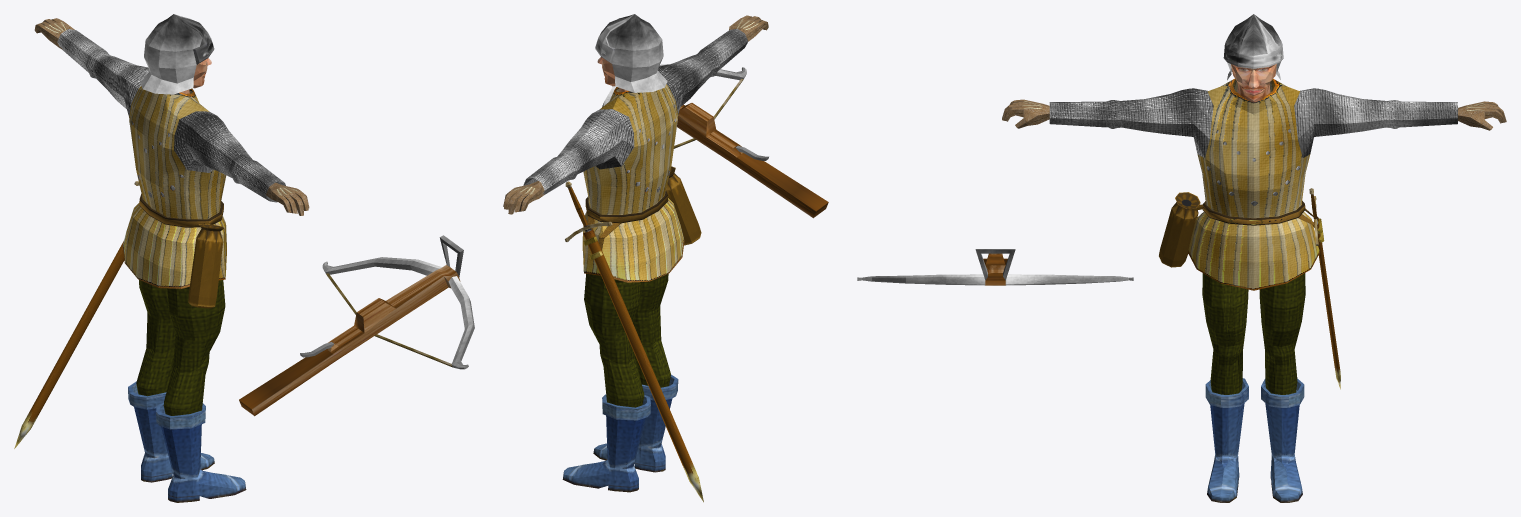
The model's file is vojnik.fbx.
3 renders of one model, left to right at view 1: azimuth 30°, elevation 25°; view 2: azimuth 150°, elevation 25°; view 3: azimuth 270°, elevation 25°, orthographic. The views are drawn at different scales.
Visible parts, largest first — view 1: mesh02, mesh15, mesh03, mesh09, mesh04, mesh08, mesh13, mesh01, mesh05, mesh12, mesh11; view 2: mesh02, mesh03, mesh15, mesh08, mesh04, mesh01, mesh09, mesh13, mesh12, mesh11, mesh05, mesh06; view 3: mesh02, mesh03, mesh08, mesh09, mesh15, mesh04, mesh13, mesh16, mesh12, mesh11, mesh05, mesh01.
Boxes of the visible parts, box(x1,y1,x2,y2) form: mesh02: box(57, 29, 285, 288); mesh15: box(239, 235, 474, 416); mesh03: box(136, 280, 225, 415); mesh09: box(156, 402, 246, 502); mesh04: box(140, 14, 214, 94); mesh08: box(128, 381, 214, 482); mesh13: box(188, 222, 224, 308); mesh01: box(14, 241, 124, 448); mesh05: box(266, 182, 309, 215); mesh12: box(139, 194, 223, 227); mesh11: box(34, 18, 74, 49); mesh02: box(523, 28, 748, 282); mesh03: box(584, 273, 670, 407); mesh15: box(602, 64, 828, 218); mesh08: box(562, 394, 650, 492); mesh04: box(595, 14, 667, 92); mesh01: box(583, 229, 703, 502); mesh09: box(593, 374, 678, 472); mesh13: box(666, 166, 701, 245); mesh12: box(583, 190, 668, 260); mesh11: box(503, 181, 544, 214); mesh05: box(729, 15, 768, 41); mesh06: box(565, 181, 612, 241); mesh02: box(1049, 78, 1457, 290); mesh03: box(1202, 273, 1305, 394); mesh08: box(1261, 378, 1304, 502); mesh09: box(1205, 378, 1248, 502); mesh15: box(857, 249, 1133, 285); mesh04: box(1223, 14, 1283, 80); mesh13: box(1159, 192, 1202, 267); mesh16: box(1231, 64, 1276, 102); mesh12: box(1202, 201, 1324, 242); mesh11: box(1458, 101, 1506, 130); mesh05: box(1002, 99, 1049, 128); mesh01: box(1314, 216, 1340, 389).
Bounding box in the file's own units: 101 × 172 × 219.
11 materials, 11 textured.
